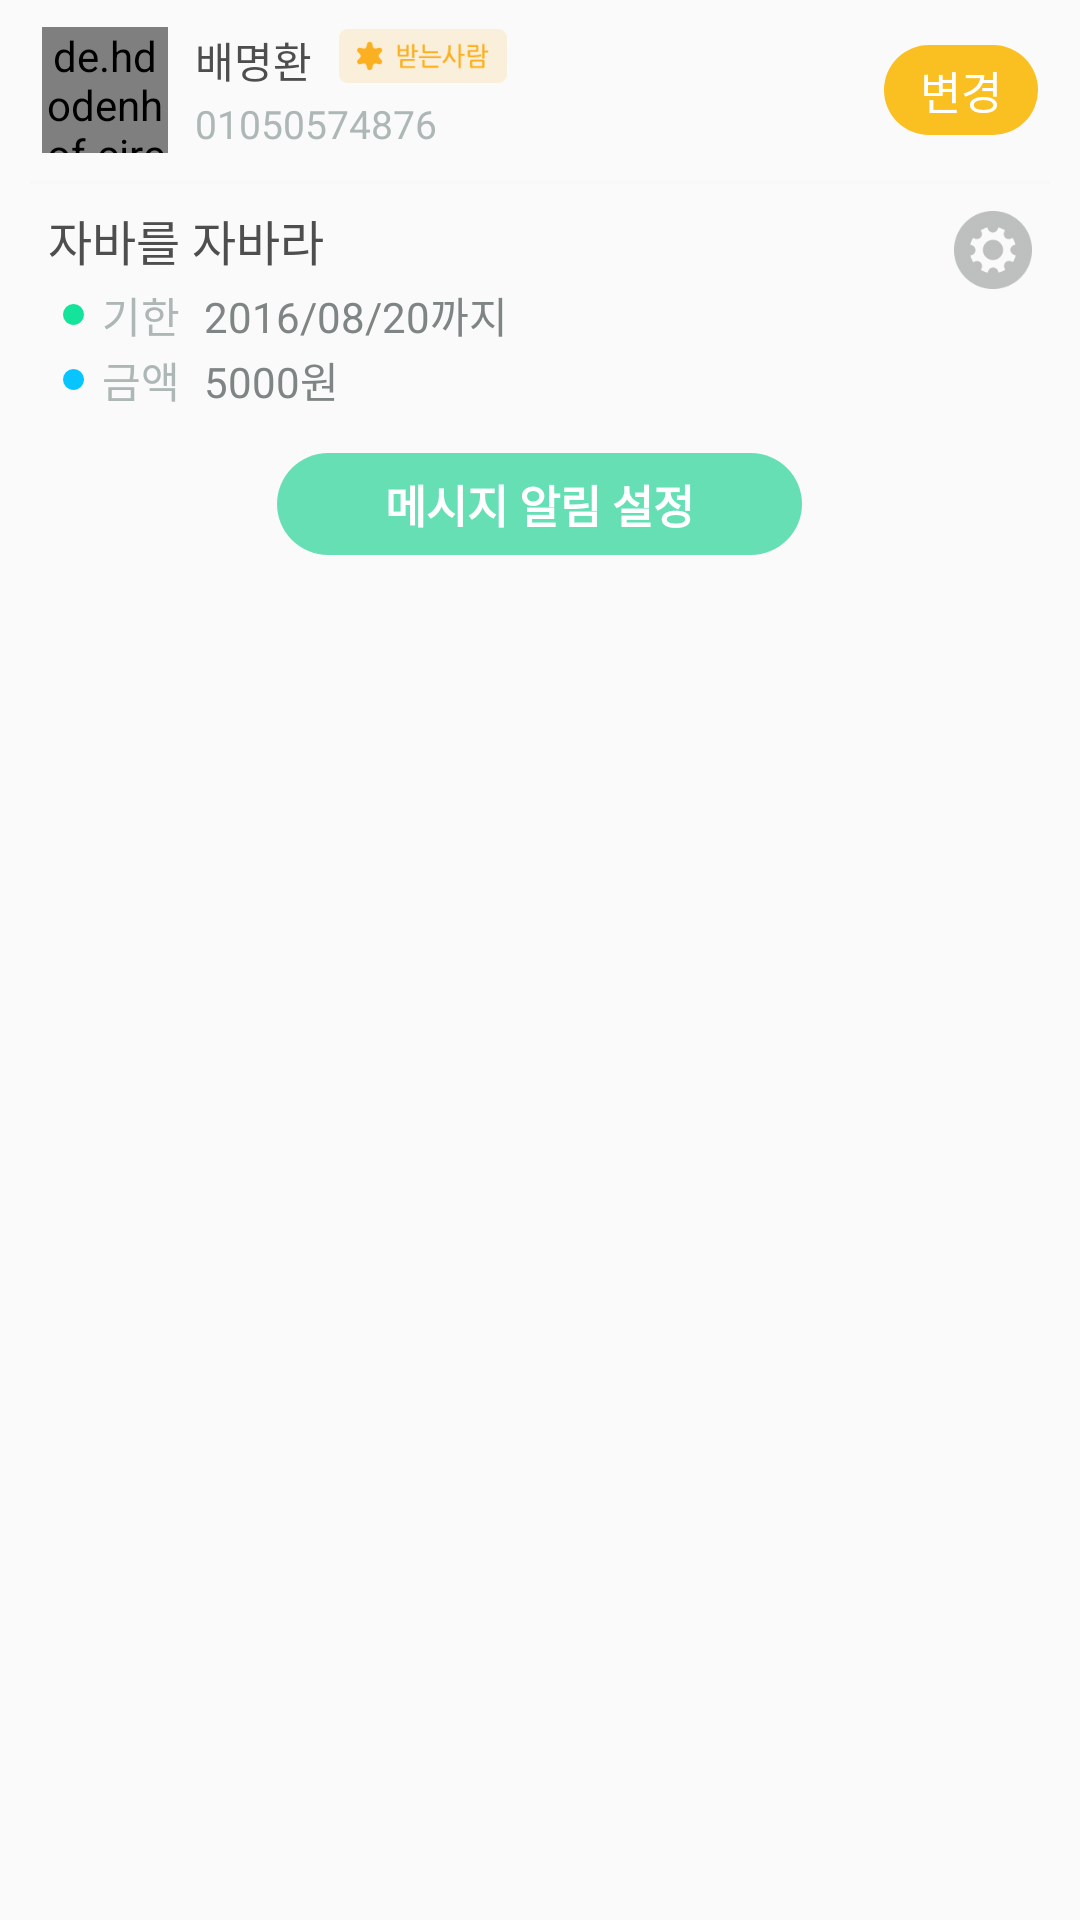

Point at icon controls on the screen. Image size 1080x1920, points as (x,y).
room setting: (993,250)
